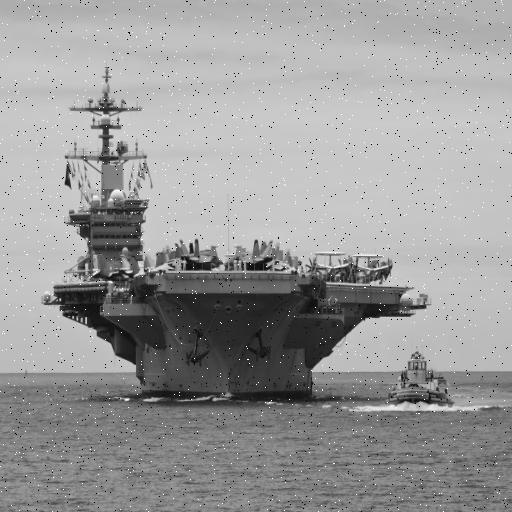Portanaves: (39, 60, 437, 403)
